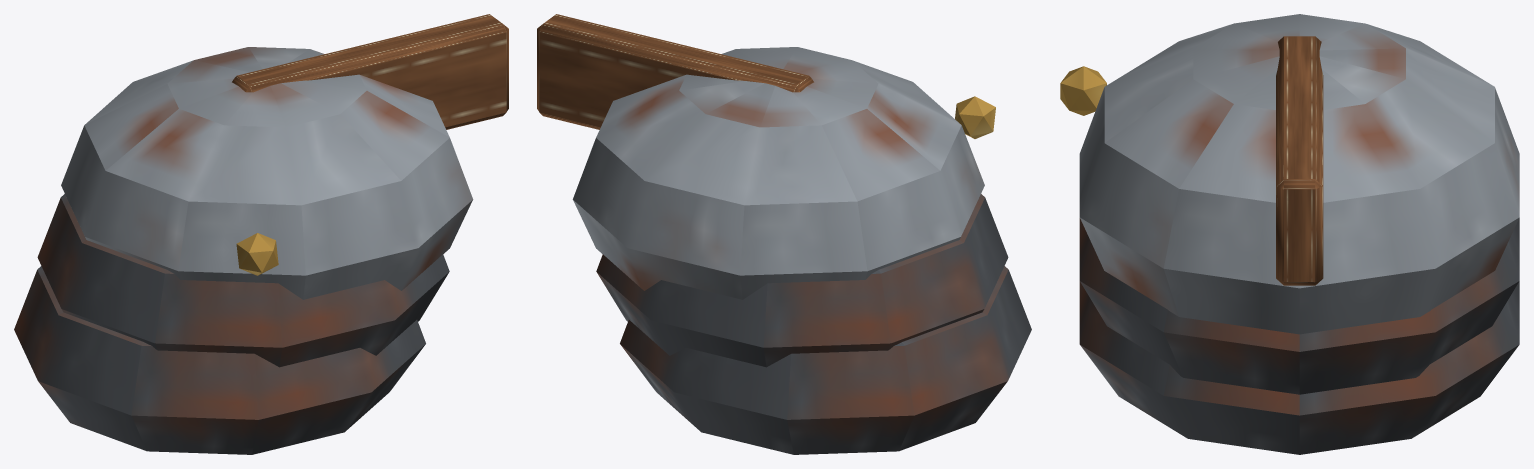
The model's file is ACC_Armor_ShoulderR.fbx.
3 renders of one model, left to right at view 1: azimuth 30°, elevation 25°; view 2: azimuth 150°, elevation 25°; view 3: azimuth 270°, elevation 25°, orthographic. The views are drawn at different scales.
Visible parts, largest first — view 1: ACC_Armor_ShoulderR; view 2: ACC_Armor_ShoulderR; view 3: ACC_Armor_ShoulderR.
Part boxes in pixels (<box>): ACC_Armor_ShoulderR: <box>14,14,508,454</box>; ACC_Armor_ShoulderR: <box>537,14,1031,454</box>; ACC_Armor_ShoulderR: <box>1060,14,1519,454</box>.
Size of the model in its own units: 1.58 by 0.976 by 1.17.
Materials: 1 (1 with a texture image).
